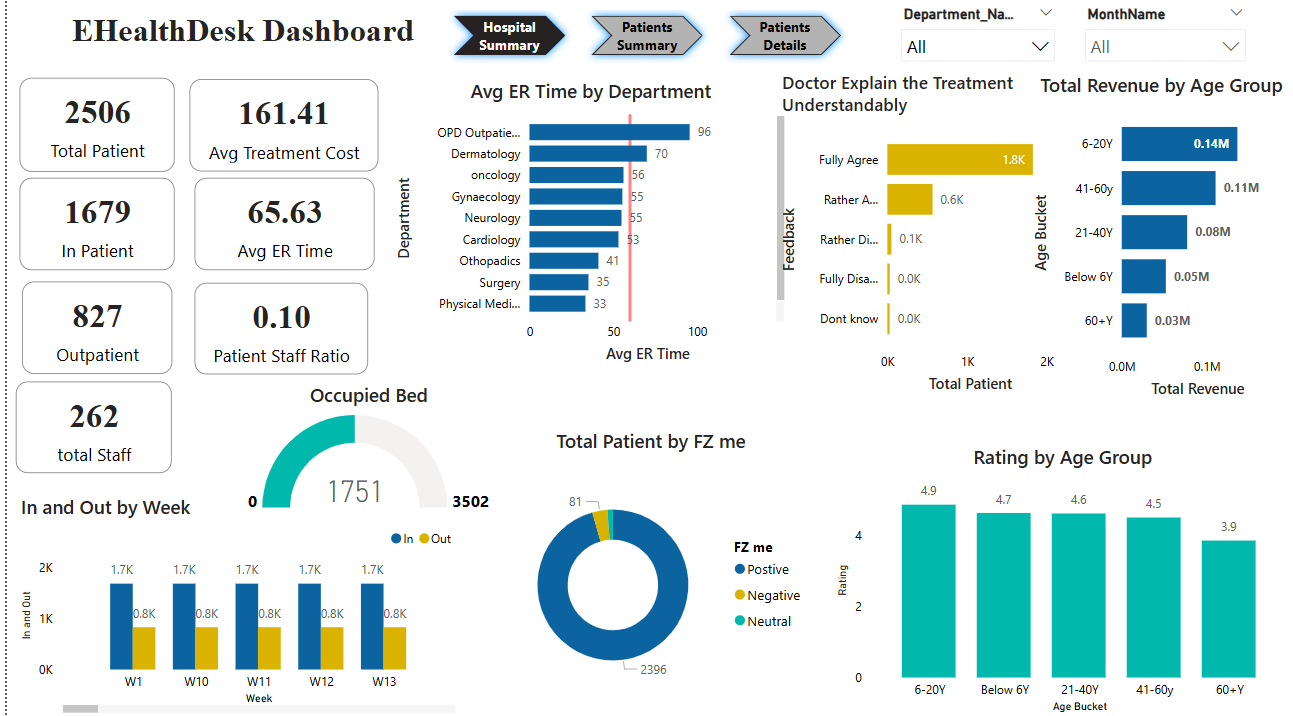

Layout of this report page (visuals, bound fields, positions):
{"tool":"powerbi","page":{"name":"Hospital Summary ","canvas":[1280,720],"ordinal":0},"visuals":[{"type":"cardVisual","fields":{"Data":["Measure.Total Patient"]},"box":[13,83.7,154.4,93.8],"z":1000},{"type":"textbox","box":[33.2,13,402.5,64.9],"z":2000},{"type":"slicer","fields":{"Values":["Department.Department_Name"]},"box":[878.9,6.1,173.6,69.7],"z":3000},{"type":"slicer","fields":{"Values":["Calendar_date.MonthName"]},"box":[1062.3,6.2,180.4,62.2],"z":4000},{"type":"cardVisual","fields":{"Data":["Measure.In Patient"]},"box":[13,183.2,154.4,92.3],"z":5000},{"type":"cardVisual","fields":{"Data":["Measure.Outpatient"]},"box":[14.9,286.1,149.3,92.1],"z":6000},{"type":"cardVisual","fields":{"Data":["Bed_Detail.total Staff"]},"box":[8.7,385.6,155.5,90.8],"z":7000},{"type":"cardVisual","fields":{"Data":["Measure.Avg Treatment Cost"]},"box":[181.6,84.6,187.8,92.1],"z":8000},{"type":"cardVisual","fields":{"Data":["Measure.Avg ER Time"]},"box":[186.6,182.9,179.1,92.1],"z":9000},{"type":"cardVisual","fields":{"Data":["Bed_Detail.Patient Staff Ratio"]},"box":[186.6,287.4,172.9,90.8],"z":10000},{"type":"clusteredColumnChart","fields":{"Y":["Calendar_date.In Patient","Calendar_date.Outpatient"],"Category":["Calendar_date.WeekName"]},"box":[8.7,497.6,442.8,222.7],"z":11000},{"type":"gauge","fields":{"Y":["Divide(Measure.Occupied Bed, ScopedEval(Measure.Occupied Bed, []))"]},"box":[230.1,385.6,260,139.3],"z":12000},{"type":"clusteredBarChart","title":"Total Revenue by Age Group","fields":{"Y":["Measure.Total Revenue"],"Category":["Detail data dataset.Age Bucket"]},"box":[1017.6,77.1,262.5,329.6],"z":13000},{"type":"barChart","fields":{"Y":["Measure.Avg ER Time"],"Category":["Department.Department_Name"]},"box":[383.1,83.3,395.6,288.6],"z":14000},{"type":"barChart","title":"Doctor Explain the Treatment Understandably","fields":{"Y":["Measure.Total Patient"],"Category":["Detail data dataset.Feedback"]},"box":[766.3,75.9,287.4,325.9],"z":15000},{"type":"columnChart","title":"Rating by Age Group","fields":{"Y":["Measure.Rating"],"Category":["Detail data dataset.Age Bucket"]},"box":[821,447.8,459,272.4],"z":16000},{"type":"donutChart","fields":{"Y":["Measure.Total Patient"],"Category":["Detail data dataset.FZ me"]},"box":[477.7,431.7,325.9,288.6],"z":17000},{"type":"pageNavigator","box":[436.4,13.4,402.2,55],"z":18000}]}

Visuals, with their boxes in screenshot pixels (x1, y1, x2, y2), scaled from the page's 1280x720 canvas onto the 1293x716 screenshot:
cardVisual - Measure.Total Patient: region(13, 83, 169, 177)
textbox: region(34, 13, 440, 77)
slicer - Department.Department_Name: region(888, 6, 1063, 75)
slicer - Calendar_date.MonthName: region(1073, 6, 1255, 68)
cardVisual - Measure.In Patient: region(13, 182, 169, 274)
cardVisual - Measure.Outpatient: region(15, 285, 166, 376)
cardVisual - Bed_Detail.total Staff: region(9, 383, 166, 474)
cardVisual - Measure.Avg Treatment Cost: region(183, 84, 373, 176)
cardVisual - Measure.Avg ER Time: region(188, 182, 369, 273)
cardVisual - Bed_Detail.Patient Staff Ratio: region(188, 286, 363, 376)
clusteredColumnChart - Calendar_date.In Patient x Calendar_date.Outpatient: region(9, 495, 456, 715)
gauge - Divide(Measure.Occupied Bed, ScopedEval(Measure.Occupied Bed, [])): region(232, 383, 495, 522)
"Total Revenue by Age Group" clusteredBarChart: region(1028, 77, 1292, 404)
barChart - Measure.Avg ER Time x Department.Department_Name: region(387, 83, 787, 370)
"Doctor Explain the Treatment Understandably" barChart: region(774, 75, 1064, 400)
"Rating by Age Group" columnChart: region(829, 445, 1292, 715)
donutChart - Measure.Total Patient x Detail data dataset.FZ me: region(483, 429, 812, 715)
pageNavigator: region(441, 13, 847, 68)
